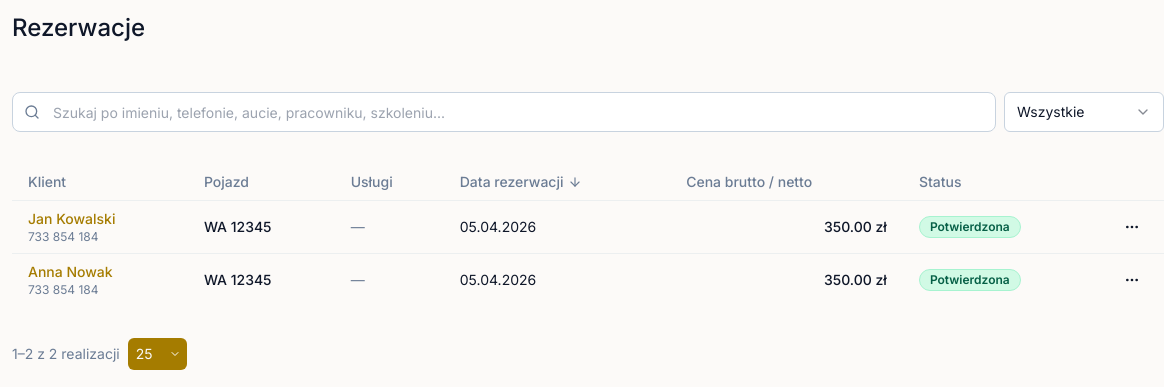
Test: ReservationsView › search filter › filters reservations by customer name after debounce
In the field: (504,112) [12,92,996,132], type "Anna"
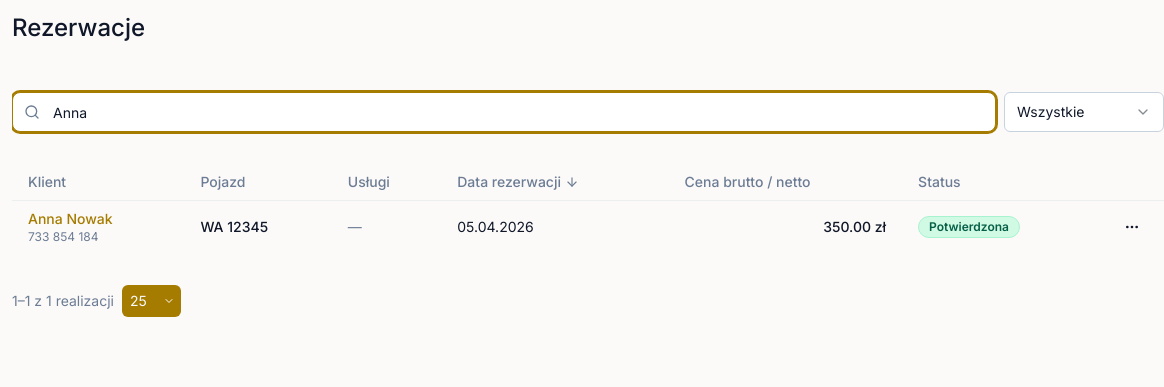
Expected: the button "Anna Nowak" is shown, [28,208,113,228]
Result: the button "Jan Kowalski" is gone
